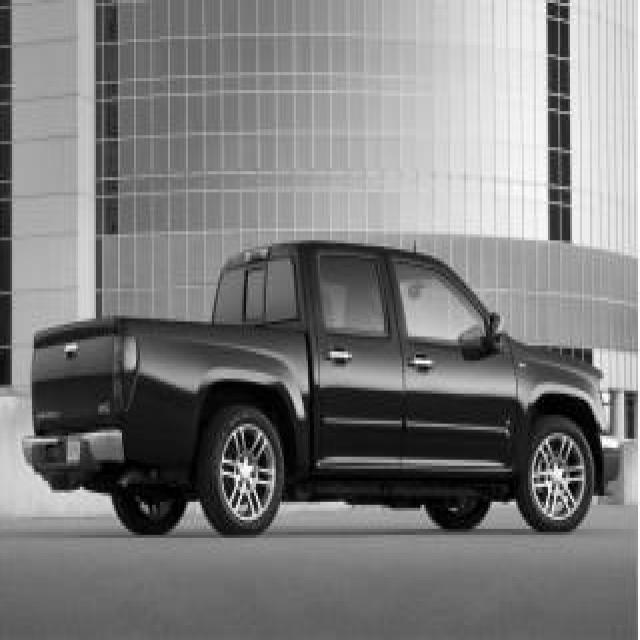Car: (24, 242, 606, 534)
